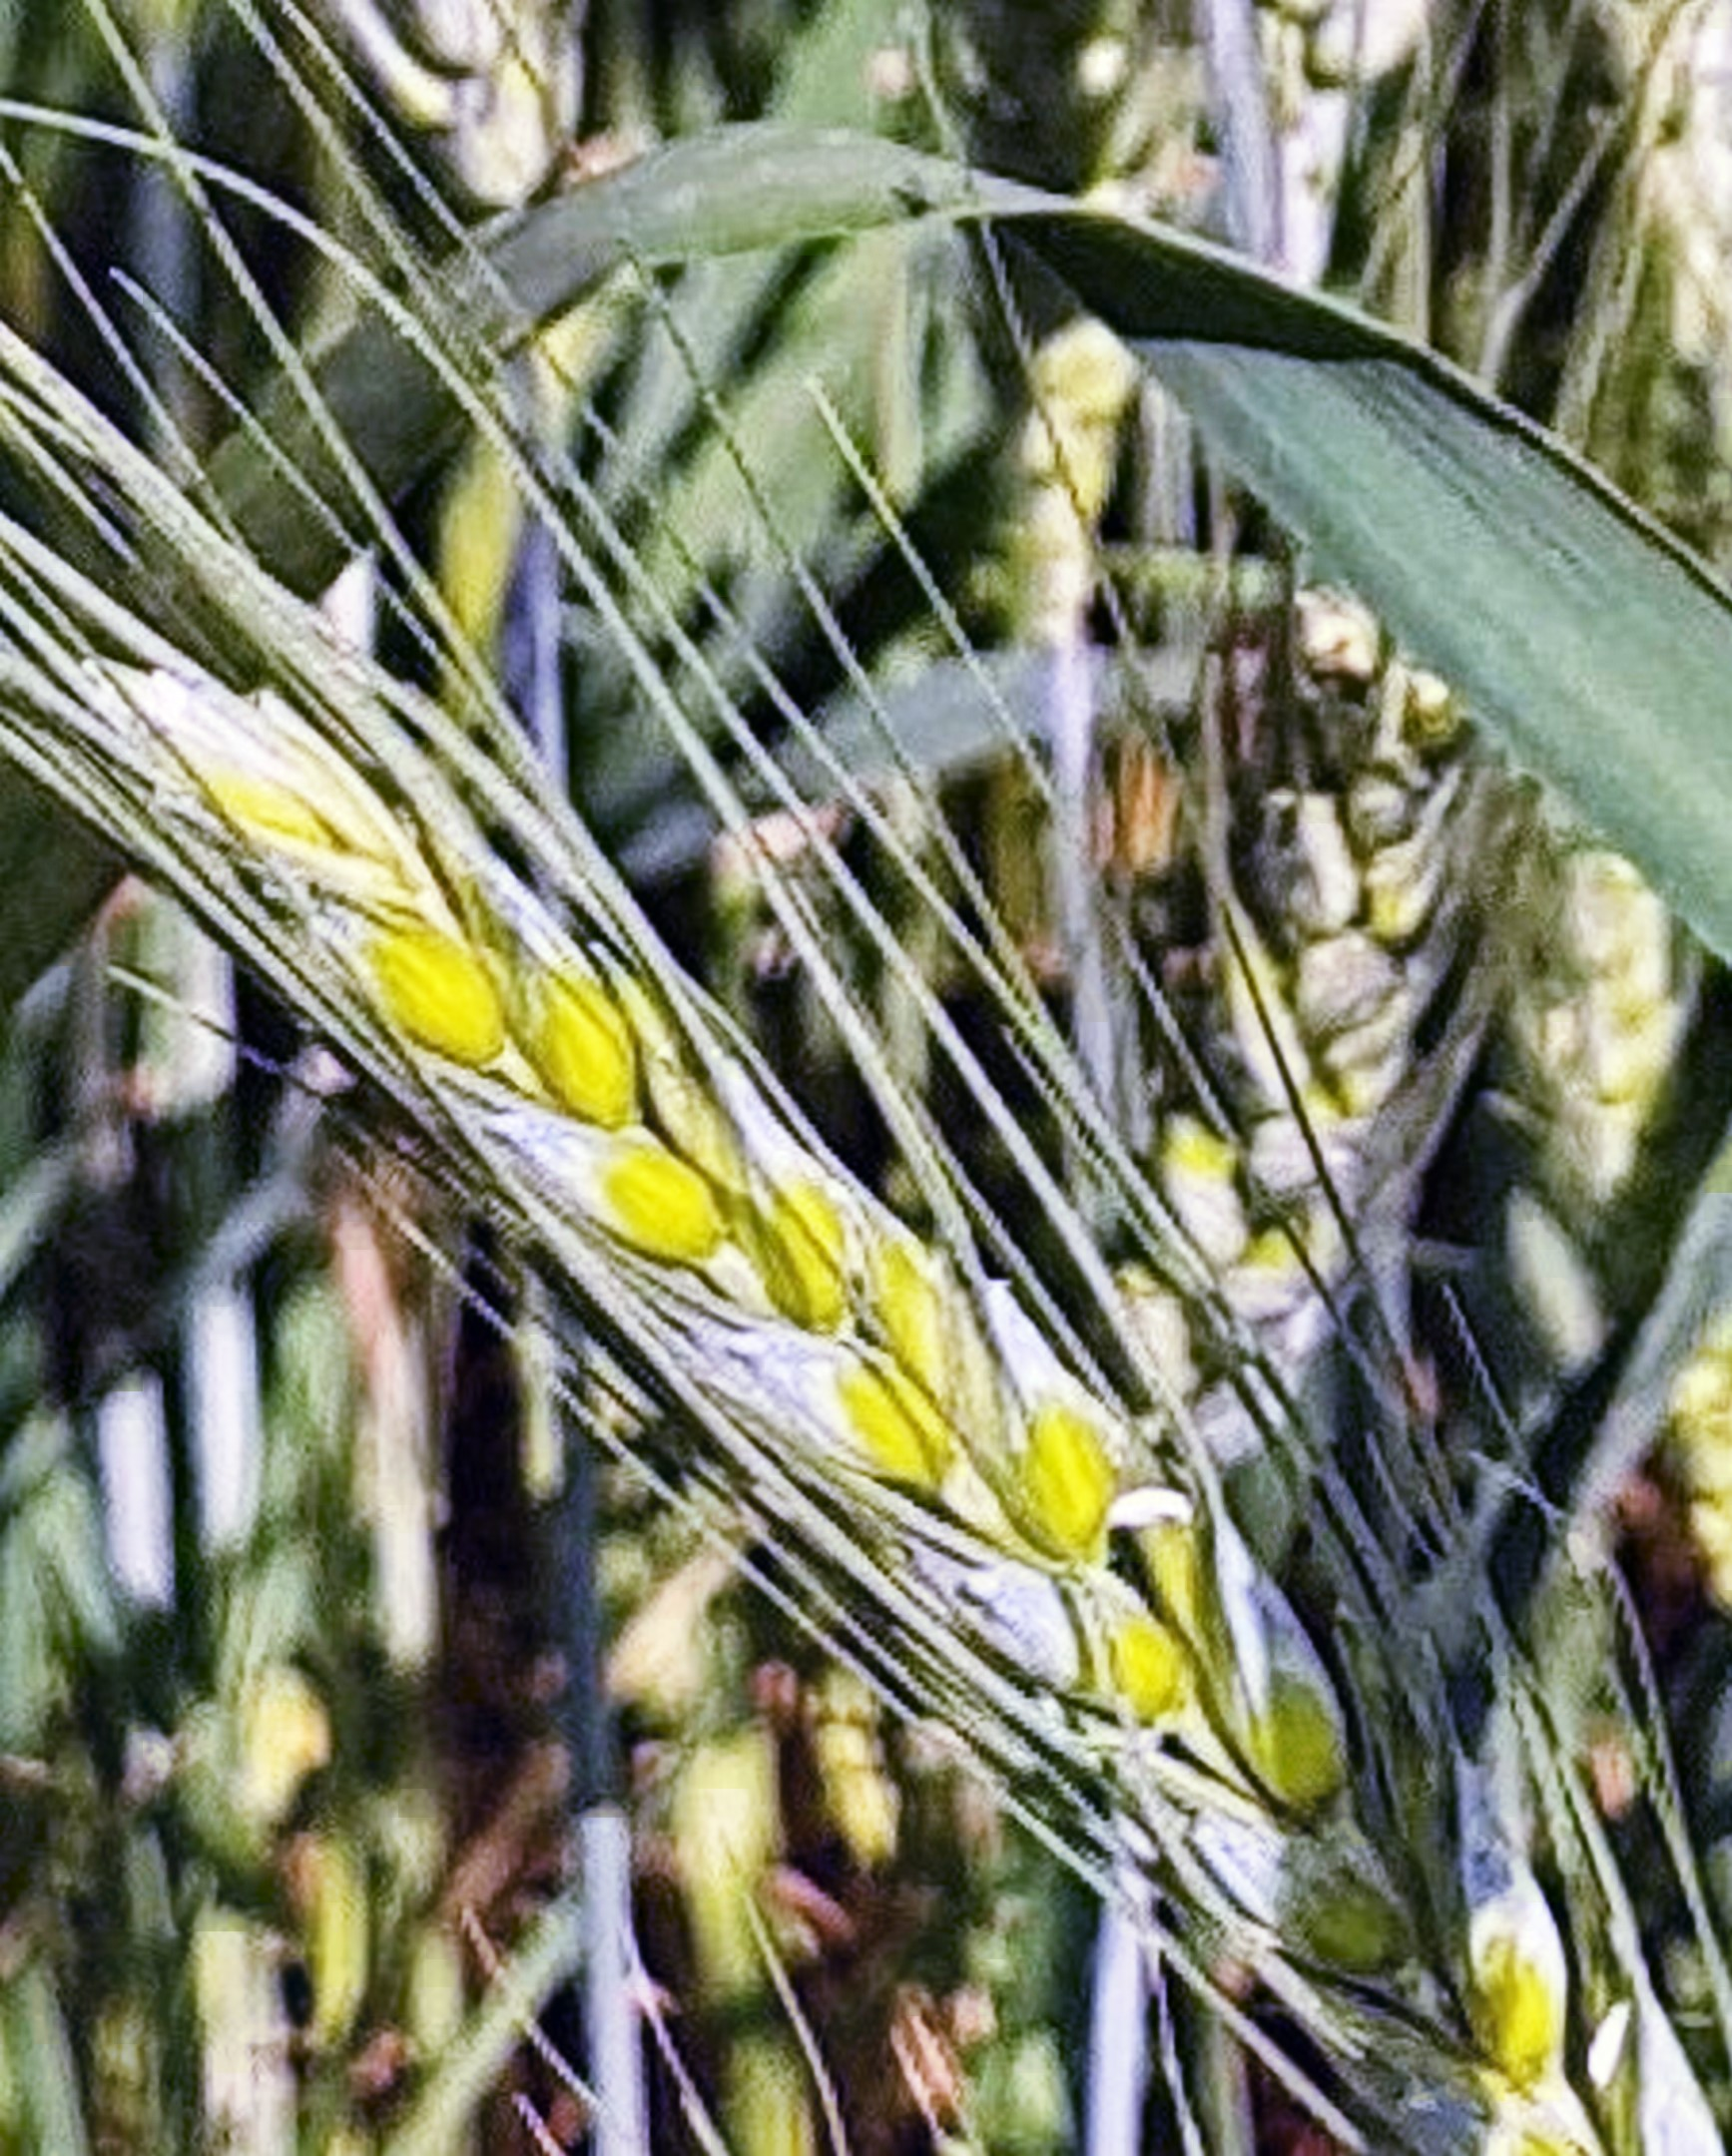Healthy Wheat: (87, 611, 1665, 2092)
